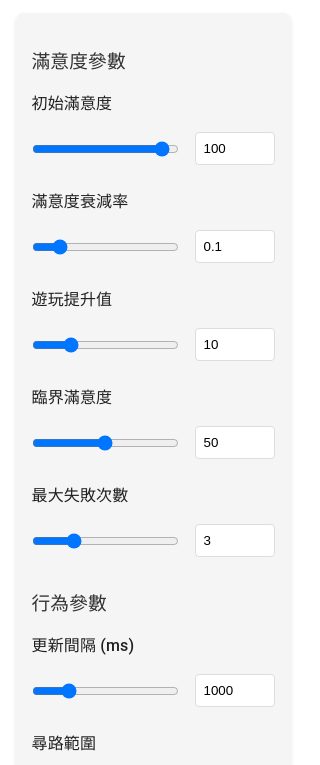
Scenario: VisitorConfigPanel › 應該能夠重置所有參數
Set the slider labelled "初始滿意度" to "90" at [157, 149], box x1=32 y1=132 x2=178 y2=166
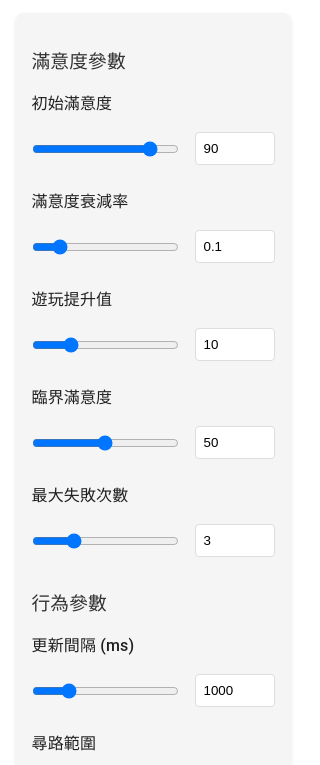
Set the slider labelled "更新間隔 (ms)" to "2000" at [90, 691], box x1=32 y1=674 x2=178 y2=708
(page scrolled)
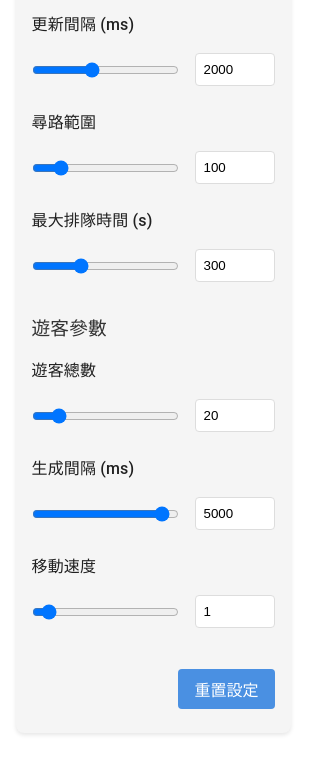
Click the button "重置設定" at [226, 689], box x1=178 y1=669 x2=274 y2=709
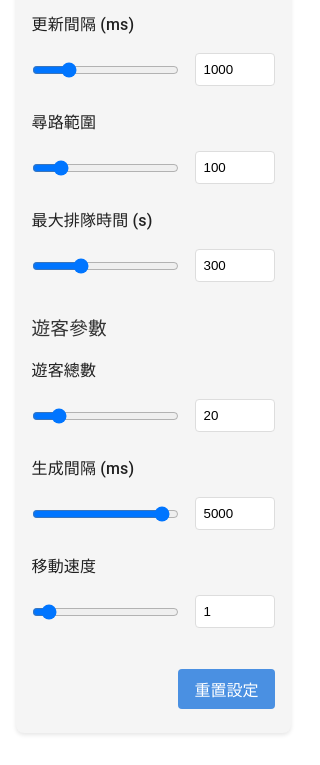
Now the slider labelled "更新間隔 (ms)" holds "1000", box x1=32 y1=53 x2=178 y2=87
